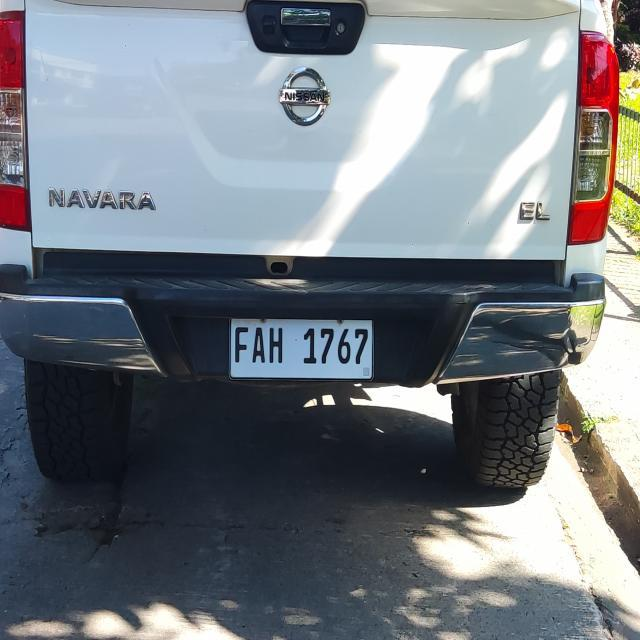LicensePlate: (226, 313, 378, 385)
